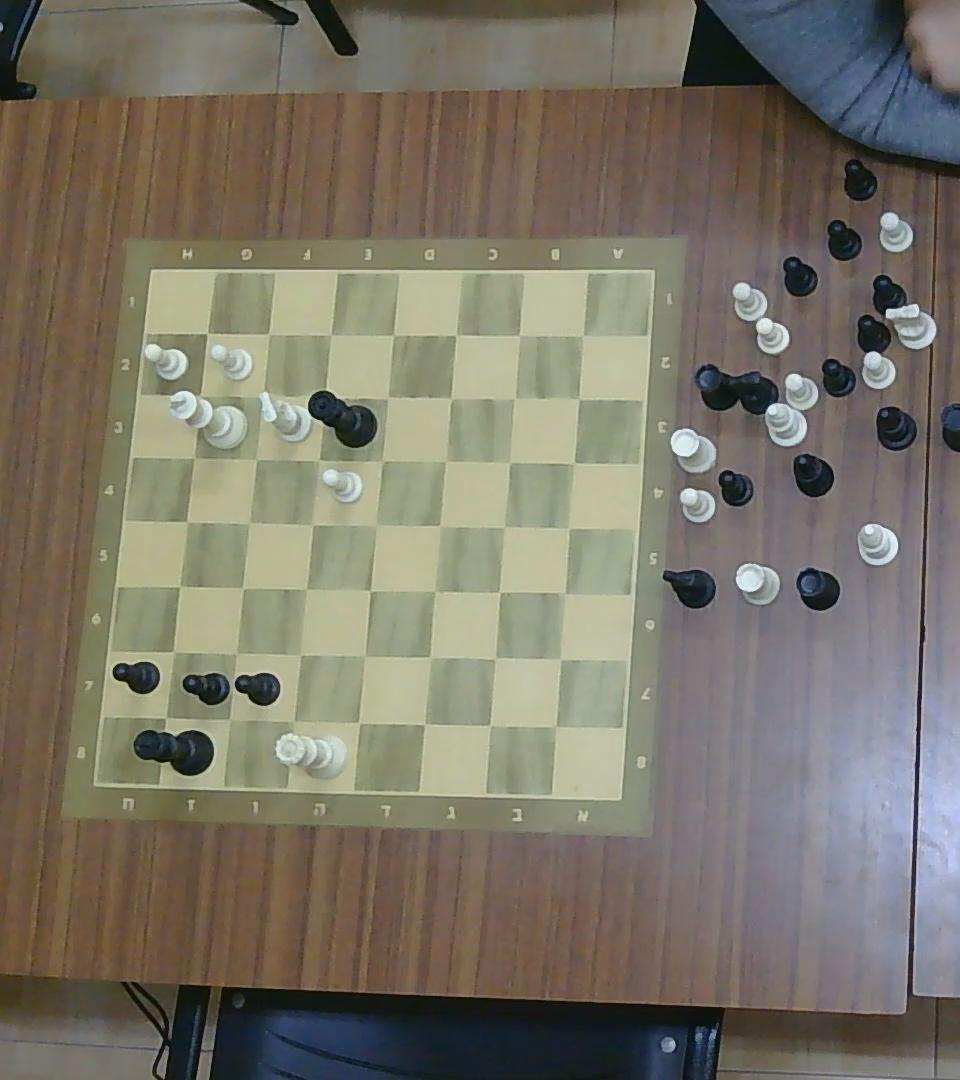xcorner: (477, 712, 503, 738), (542, 714, 569, 739), (246, 382, 272, 407), (418, 645, 442, 670), (281, 708, 305, 732), (347, 710, 371, 734), (412, 712, 437, 735), (482, 646, 506, 669), (353, 644, 376, 668), (288, 642, 311, 666), (154, 705, 178, 728), (439, 387, 461, 408), (218, 708, 240, 729), (319, 324, 341, 344), (188, 386, 210, 406), (423, 581, 443, 602), (225, 642, 245, 663), (549, 648, 570, 668), (296, 577, 315, 599), (429, 516, 449, 536), (366, 514, 386, 534), (372, 450, 392, 470), (170, 576, 189, 597), (435, 450, 454, 470), (378, 388, 397, 408), (184, 447, 203, 467), (489, 582, 508, 602), (555, 582, 574, 602), (559, 518, 579, 537), (446, 325, 465, 345), (177, 511, 196, 531), (315, 386, 334, 406), (240, 513, 259, 532), (198, 324, 217, 343), (384, 326, 403, 345), (303, 514, 321, 534), (495, 516, 513, 536), (309, 450, 327, 470), (500, 452, 518, 472), (260, 324, 278, 344), (505, 388, 523, 407), (248, 449, 266, 468), (361, 581, 380, 599), (165, 643, 183, 662), (564, 453, 583, 471), (233, 579, 251, 598), (573, 326, 591, 345), (511, 327, 529, 344), (572, 390, 588, 405)
